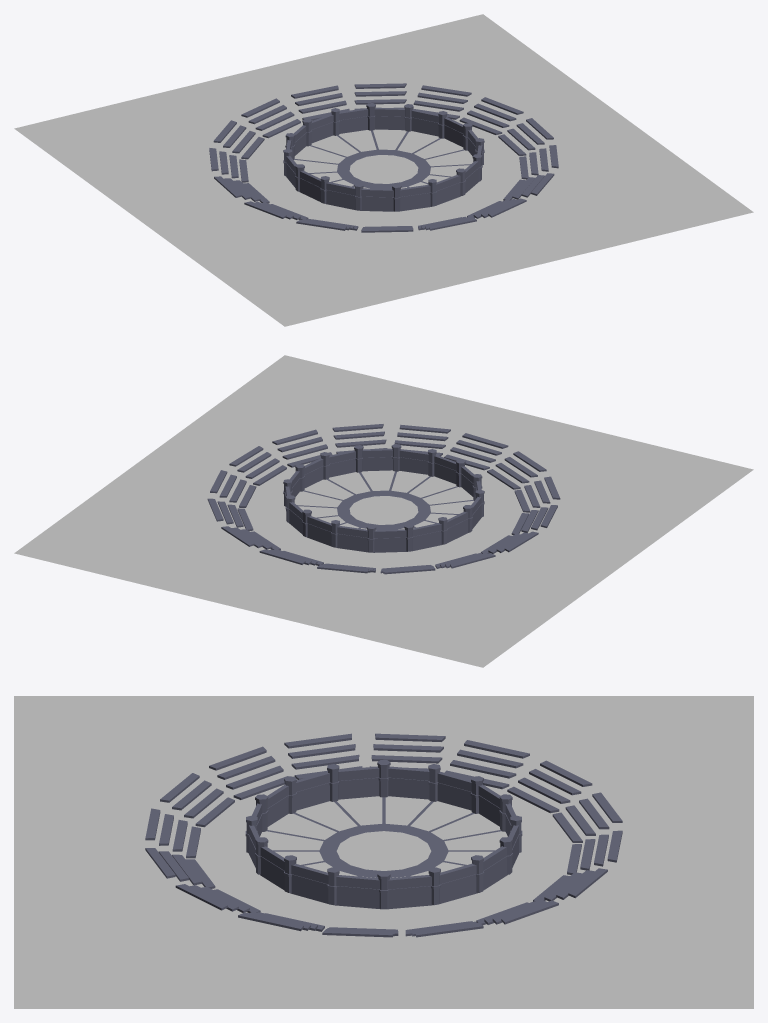
File: arena_circle.fbx
3 views of the same model, one above another, from view 1: azimuth 30°, elevation 25°; view 2: azimuth 150°, elevation 25°; view 3: azimuth 270°, elevation 25° (orthographic). The views are drawn at different scales.
Parts seen in each view (by area): view 1: arena_bg, stands, arena_walls, arena_floor; view 2: arena_bg, stands, arena_walls, arena_floor; view 3: arena_bg, stands, arena_walls, arena_floor.
Boxes of the visible parts, left/top/right/bottom form: arena_bg: left=14, top=14, right=753, bottom=326; stands: left=209, top=83, right=558, bottom=232; arena_walls: left=283, top=103, right=484, bottom=211; arena_floor: left=294, top=129, right=473, bottom=188; arena_bg: left=14, top=355, right=753, bottom=667; stands: left=207, top=424, right=560, bottom=574; arena_walls: left=283, top=444, right=484, bottom=552; arena_floor: left=294, top=470, right=473, bottom=530; arena_bg: left=14, top=696, right=753, bottom=1008; stands: left=145, top=733, right=622, bottom=937; arena_walls: left=245, top=760, right=522, bottom=909; arena_floor: left=260, top=796, right=507, bottom=877.
Size of the model in its own units: 107 by 5.46 by 107.
